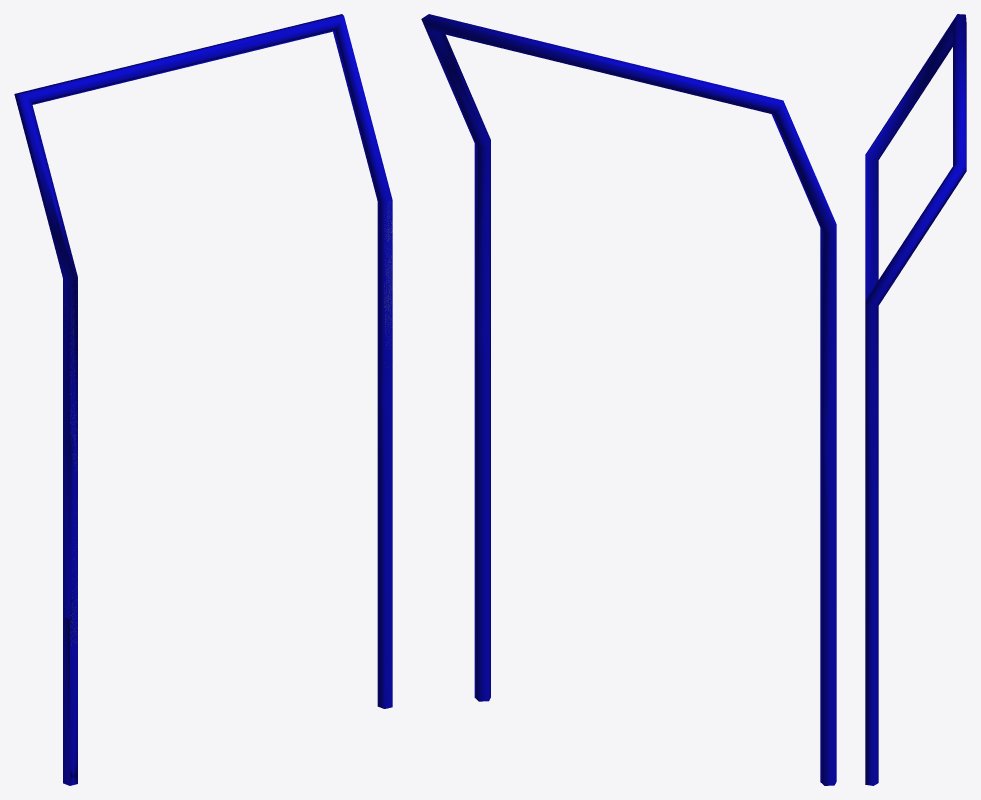
The model's file is original-2.obj.
3 views of the same model, side by side, from view 1: azimuth 30°, elevation 25°; view 2: azimuth 150°, elevation 25°; view 3: azimuth 270°, elevation 25° (orthographic). The views are drawn at different scales.
Parts seen in each view (by area): view 1: mesh2/mesh2-geometry#mesh2-geometry; view 2: mesh2/mesh2-geometry#mesh2-geometry; view 3: mesh2/mesh2-geometry#mesh2-geometry.
Boxes of the visible parts, x1,y1,x2,y2 form: mesh2/mesh2-geometry#mesh2-geometry: (14, 14, 392, 785); mesh2/mesh2-geometry#mesh2-geometry: (421, 14, 836, 785); mesh2/mesh2-geometry#mesh2-geometry: (865, 14, 966, 785).
Size of the model in its own units: 0.5239 by 1 by 0.1483.
